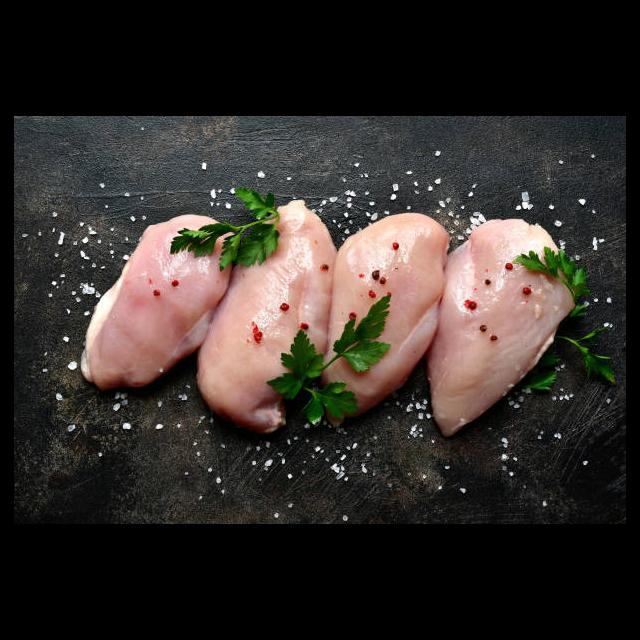chicken: (199, 196, 338, 434), (428, 218, 576, 433), (77, 216, 232, 393), (328, 211, 450, 433)
